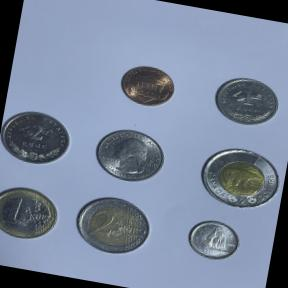coin: (188, 136, 288, 217), (66, 188, 158, 264), (86, 120, 171, 189), (0, 103, 78, 173), (0, 178, 66, 246), (113, 58, 180, 113), (180, 214, 246, 267)
